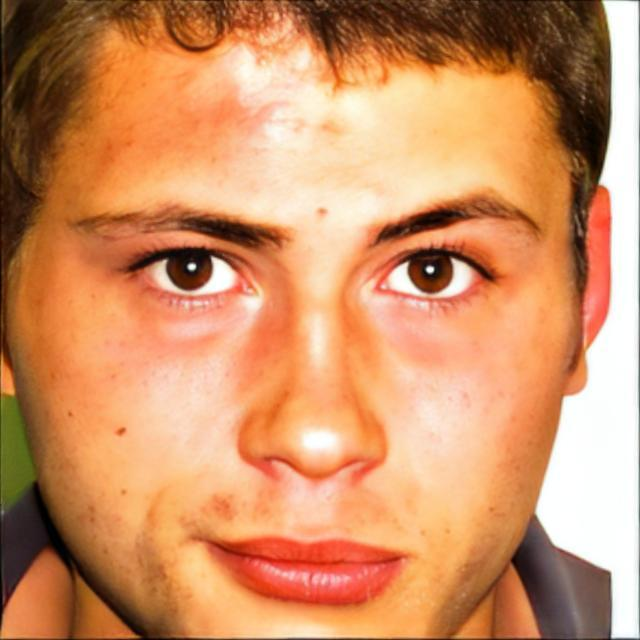content: (2, 0, 577, 640)
